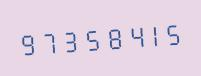eight: (101, 19, 121, 54)
five: (164, 15, 184, 50), (80, 21, 100, 55)
four: (122, 18, 142, 53)
nine: (17, 25, 37, 60)
one: (143, 17, 163, 51)
seven: (38, 24, 58, 58)
three: (59, 22, 79, 57)
